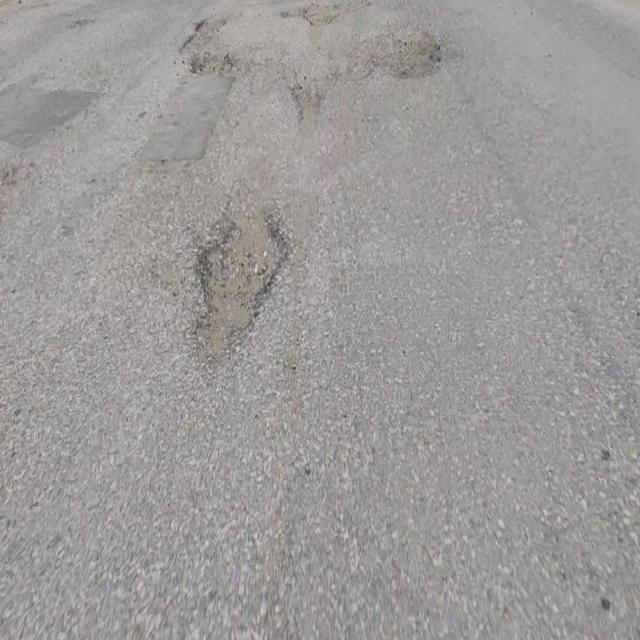Potholes: (193, 199, 292, 364), (353, 25, 443, 83), (177, 21, 238, 79), (303, 1, 343, 27)
